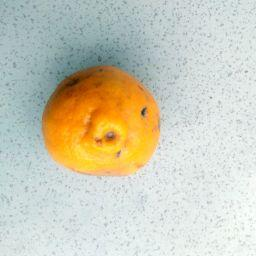Unripe: (41, 65, 159, 179)
